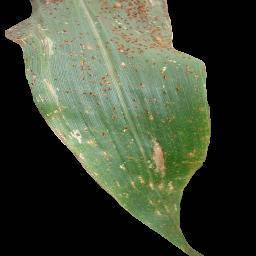Corn_Common_Rust: (19, 54, 212, 123), (45, 123, 213, 167), (88, 0, 198, 54), (83, 168, 196, 208), (3, 0, 87, 53), (153, 208, 164, 219)
